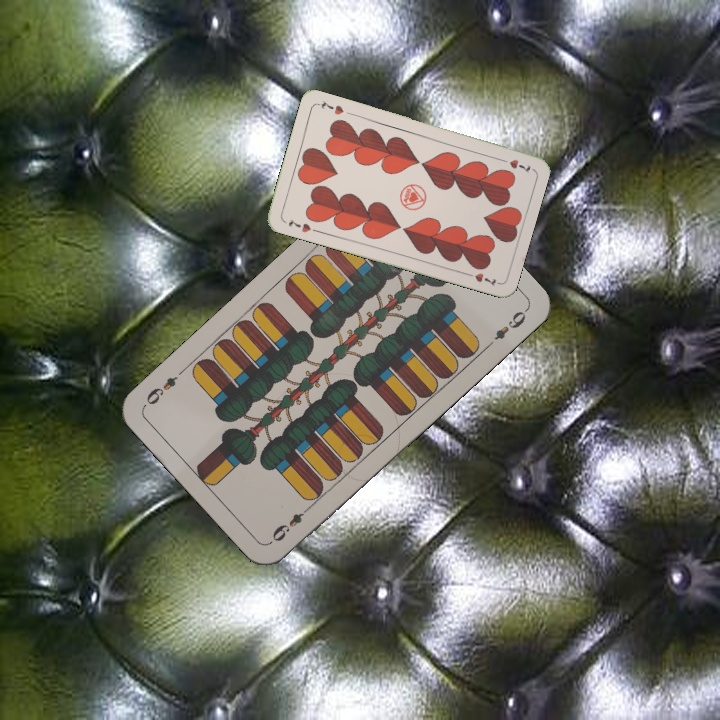E9: (267, 501, 314, 545)
H7: (495, 154, 535, 175), (284, 216, 313, 235)
